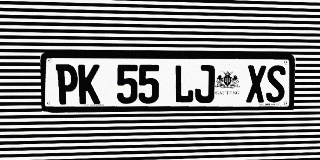5: (117, 64, 138, 104), (139, 65, 159, 104)
J: (194, 65, 215, 103)
K: (78, 64, 100, 104)
L: (174, 65, 194, 103)
P: (56, 64, 78, 104)
S: (266, 65, 286, 102)
X: (246, 65, 266, 103)
